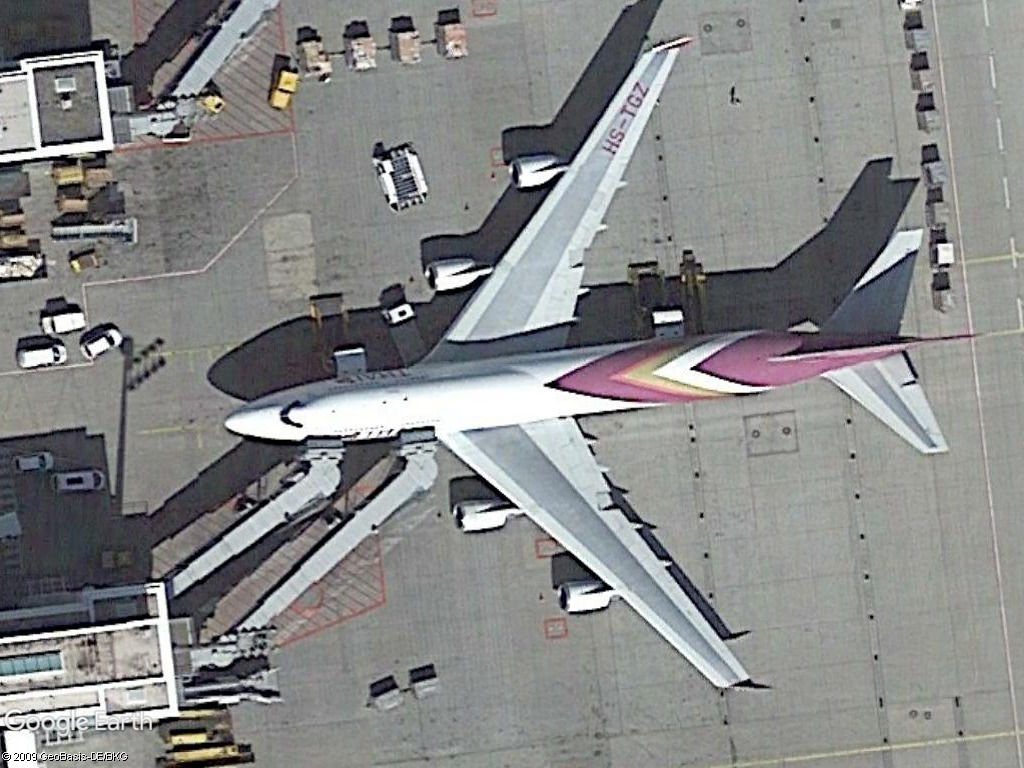airliner: (198, 33, 990, 698)
